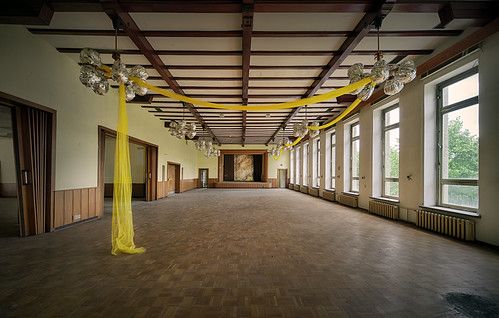window: (421, 67, 488, 207), (375, 104, 403, 202), (345, 117, 363, 195), (309, 134, 324, 188), (327, 129, 340, 191)
